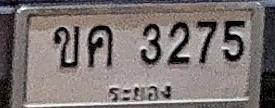2: (167, 21, 190, 64)
3: (140, 23, 161, 65)
5: (223, 20, 245, 62)
7: (196, 20, 217, 63)
A02: (52, 26, 80, 68)
A04: (87, 24, 113, 67)
RYG: (105, 81, 176, 104)
